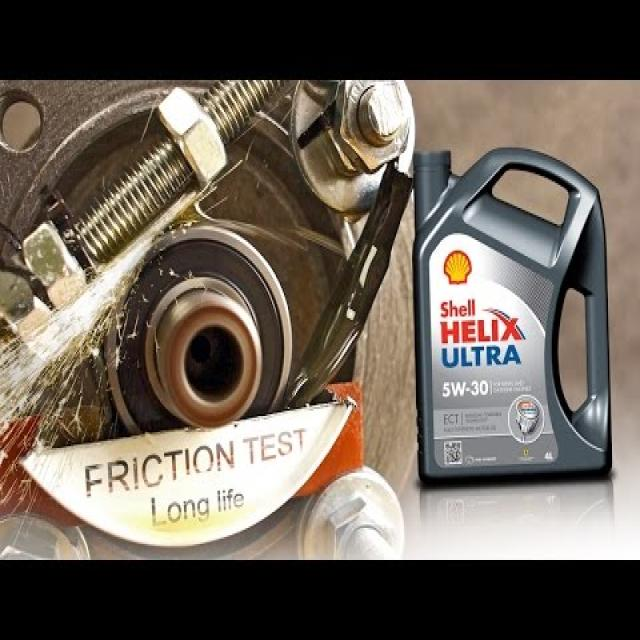motor_oil: (411, 143, 618, 483)
